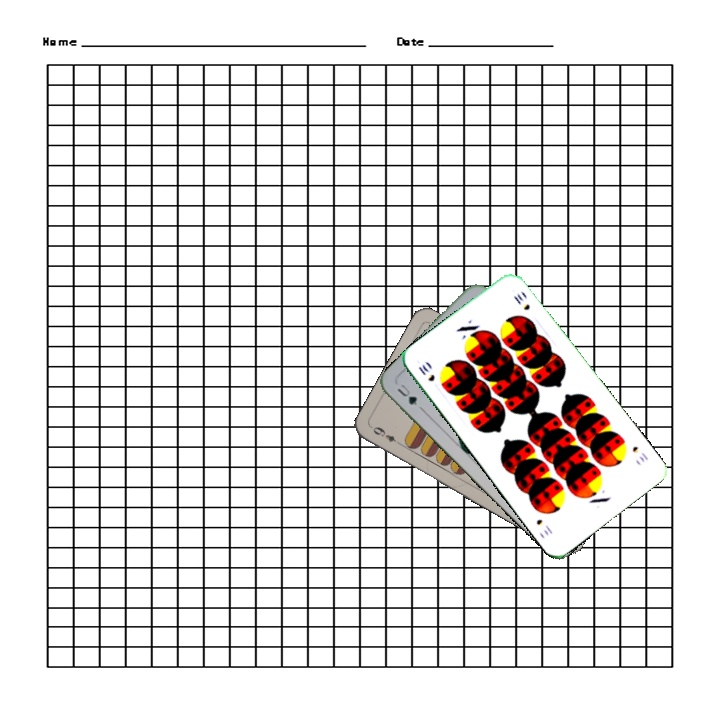E9: (369, 422, 404, 448)
GU: (393, 380, 420, 408)
S10: (414, 360, 437, 384), (628, 442, 651, 465)
